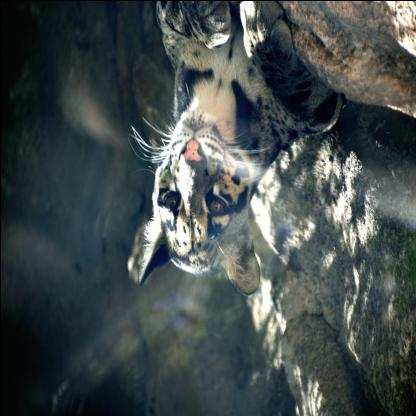leopard: (129, 106, 262, 310)
